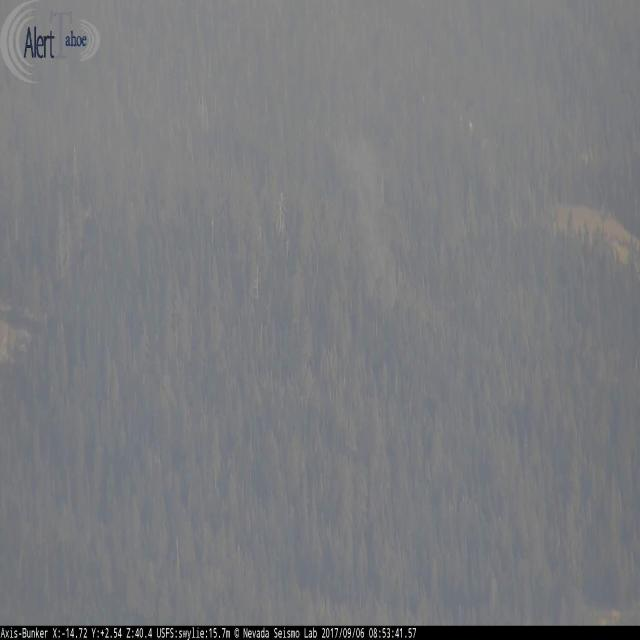smoke: (333, 109, 404, 313)
